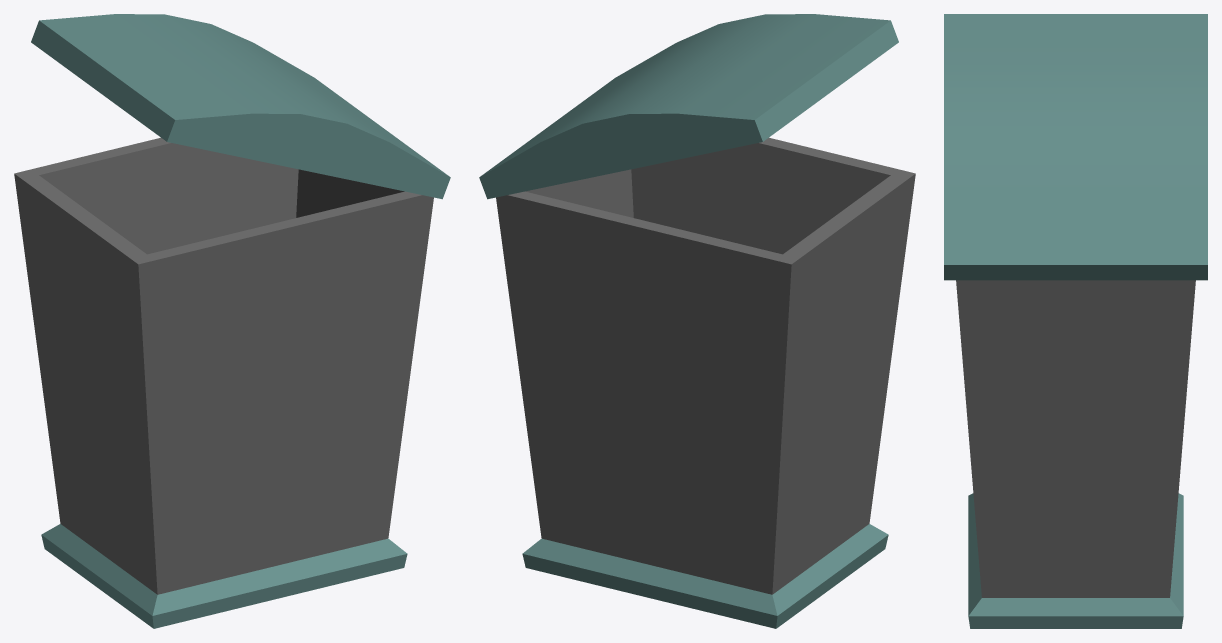
Rendered from trash_basket.fbx.
The picture shows the model from 3 angles, left to right: view 1: azimuth 30°, elevation 25°; view 2: azimuth 150°, elevation 25°; view 3: azimuth 270°, elevation 25°; orthographic projection. The views are drawn at different scales.
Visible parts, largest first — view 1: trash_basket; view 2: trash_basket; view 3: trash_basket.
Part boxes in pixels (x1,y1,x2,y2): trash_basket: (14, 14, 450, 628); trash_basket: (479, 14, 915, 628); trash_basket: (944, 14, 1207, 628).
Bounding box in the file's own units: 39.9 × 64.29 × 30.71.
